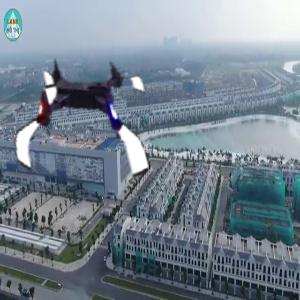drone: (6, 48, 156, 198)
